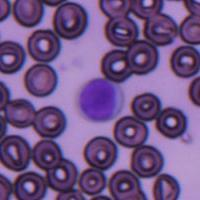L: (76, 78, 123, 123)
